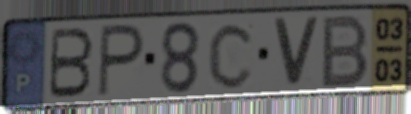8: (158, 20, 202, 96)
B: (318, 12, 372, 91), (46, 26, 96, 100)
C: (206, 20, 258, 91)
P: (95, 22, 147, 100)
V: (270, 16, 322, 90)
